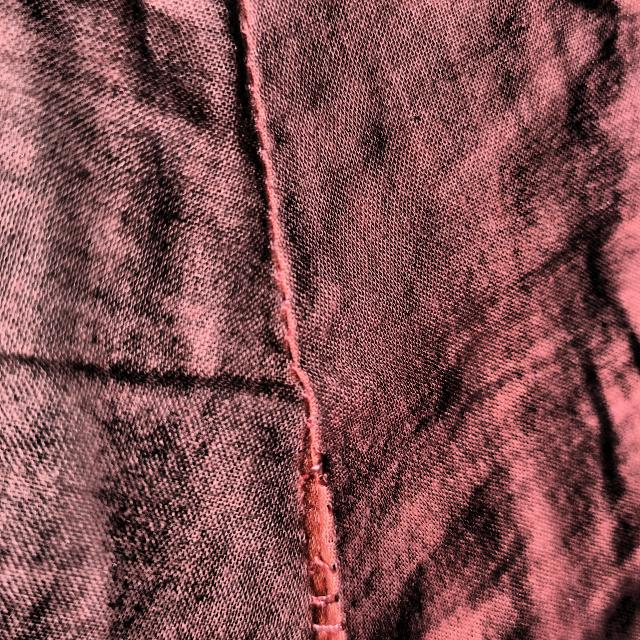seam: (244, 404, 459, 640)
